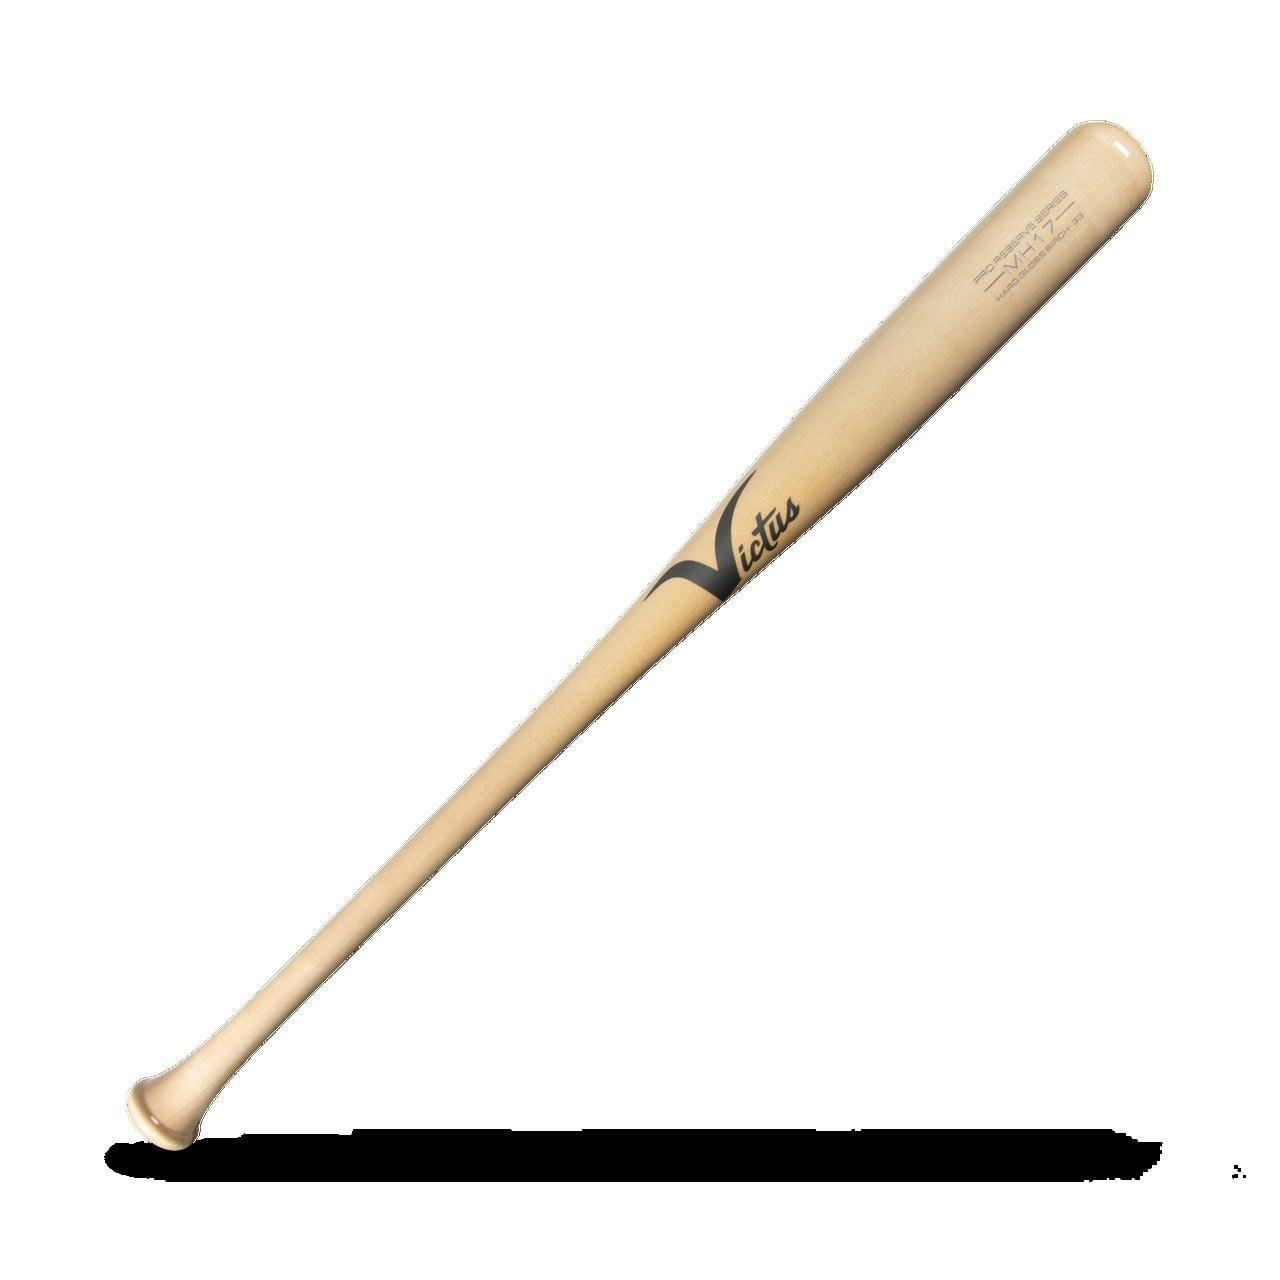Baseball-Bat: (166, 40, 1213, 1080)
